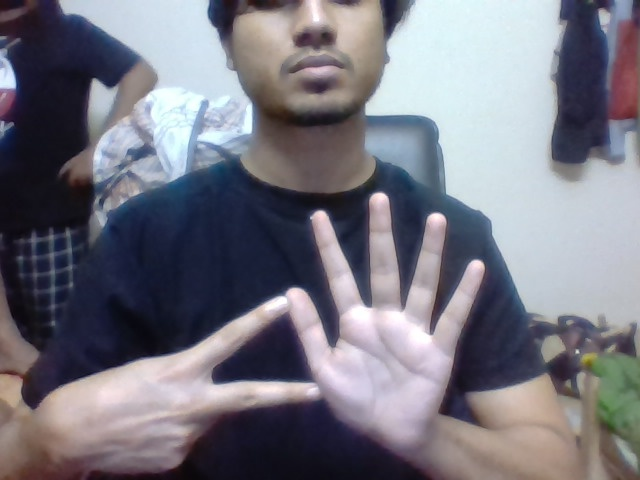N: (202, 291, 288, 417)
